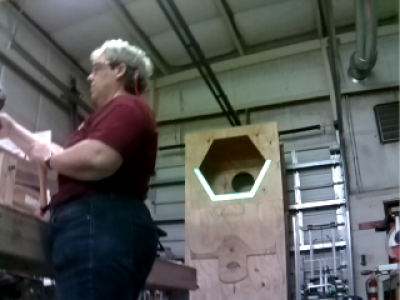target: (194, 160, 272, 203)
